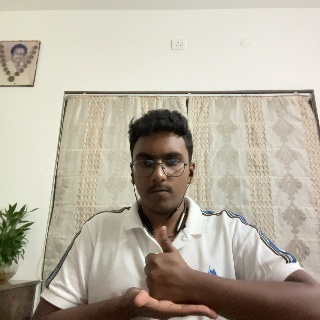Face: (128, 114, 195, 212)
Help: (112, 227, 223, 319)
